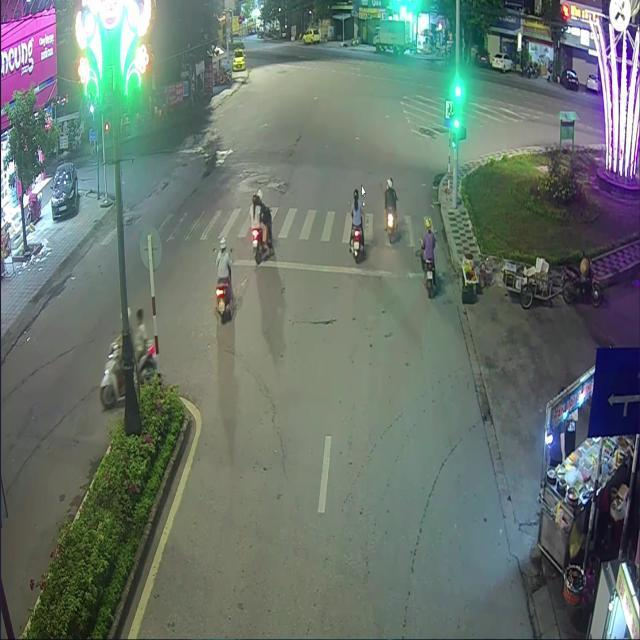green_light: (452, 97, 459, 127)
motobike: (99, 338, 158, 408), (252, 204, 273, 263), (215, 277, 232, 322), (348, 225, 364, 261), (423, 260, 436, 296), (384, 207, 395, 242)
stop_line: (231, 258, 442, 280)
